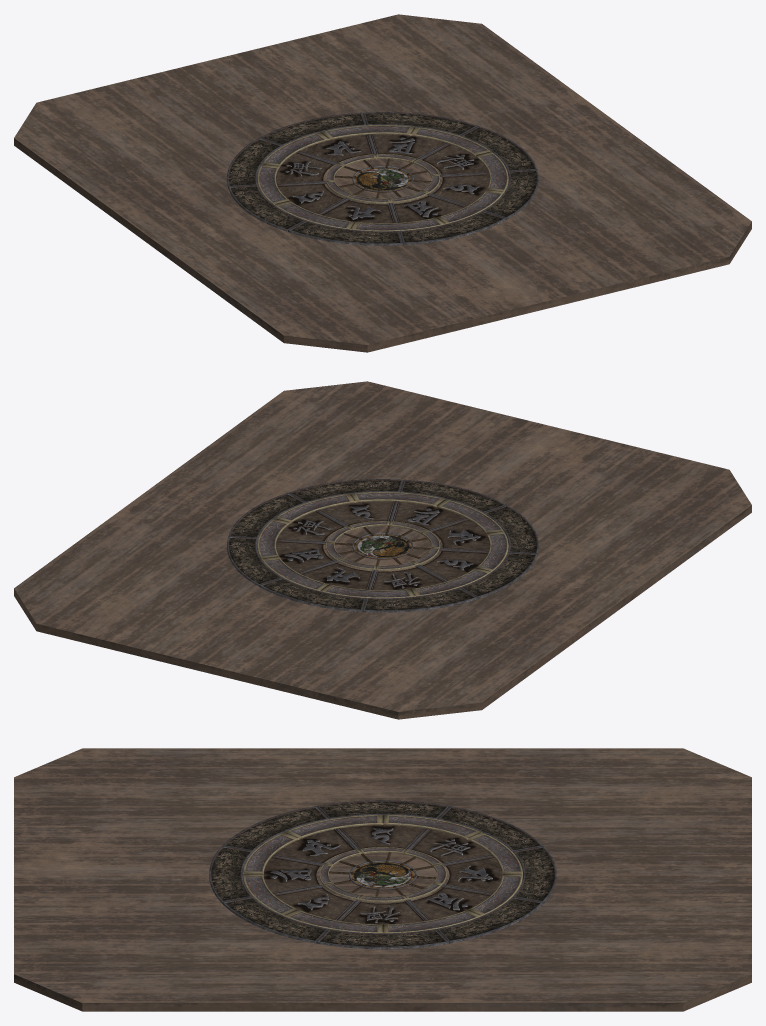
Rendered from SM_Ground.fbx.
The picture shows the model from 3 angles, top to bottom: view 1: azimuth 30°, elevation 25°; view 2: azimuth 150°, elevation 25°; view 3: azimuth 270°, elevation 25°; orthographic projection. The views are drawn at different scales.
Visible parts, largest first — view 1: SM_Ground_LOD0; view 2: SM_Ground_LOD0; view 3: SM_Ground_LOD0.
Part boxes in pixels (x1=…): SM_Ground_LOD0: x1=14, y1=14, x2=751, y2=352; SM_Ground_LOD0: x1=14, y1=381, x2=751, y2=719; SM_Ground_LOD0: x1=14, y1=748, x2=751, y2=1011.
Bounding box in the file's own units: 1345 × 1648 × 57.24.
